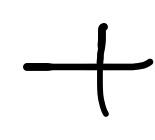plus: (25, 22, 152, 113)
